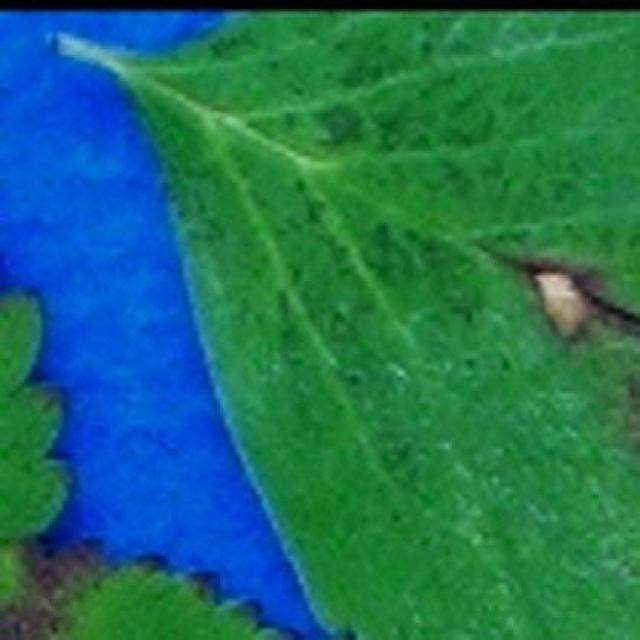Leaf Spot: (106, 11, 638, 638)
